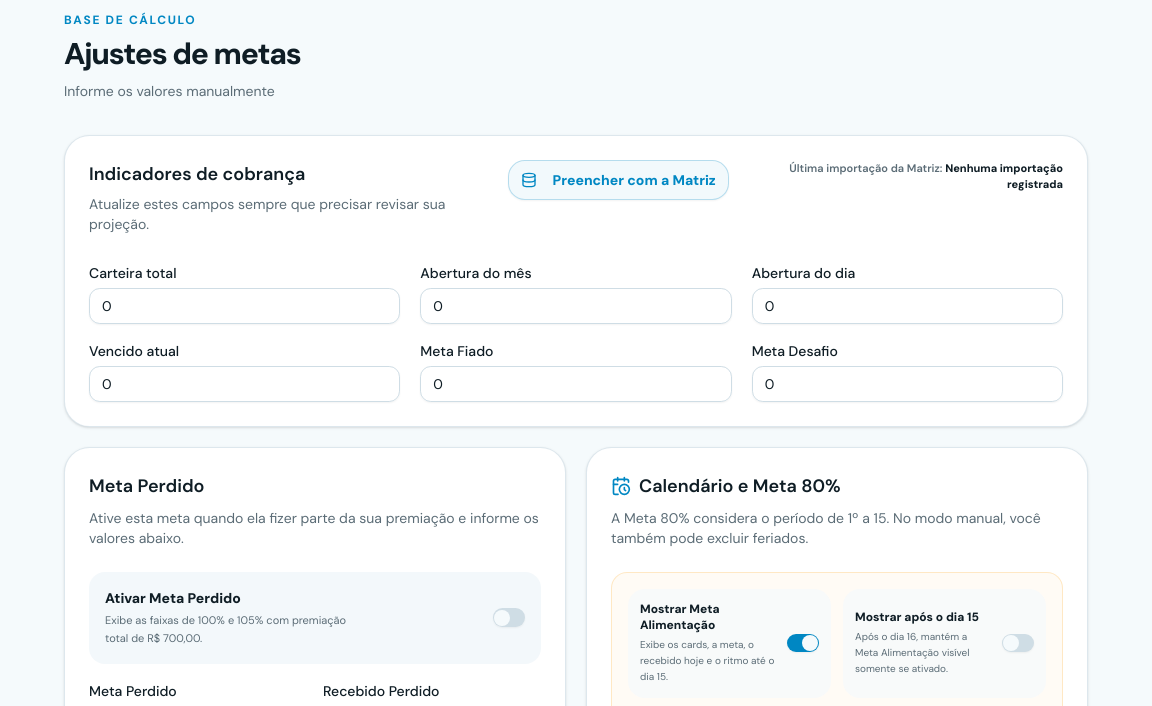
Test: marcador de férias › preenche somente os campos com origem na Matriz para conta PRO e aguarda salvar
Click the button "Preencher com a Matriz".
click(618, 180)  # box [508,160,729,200]
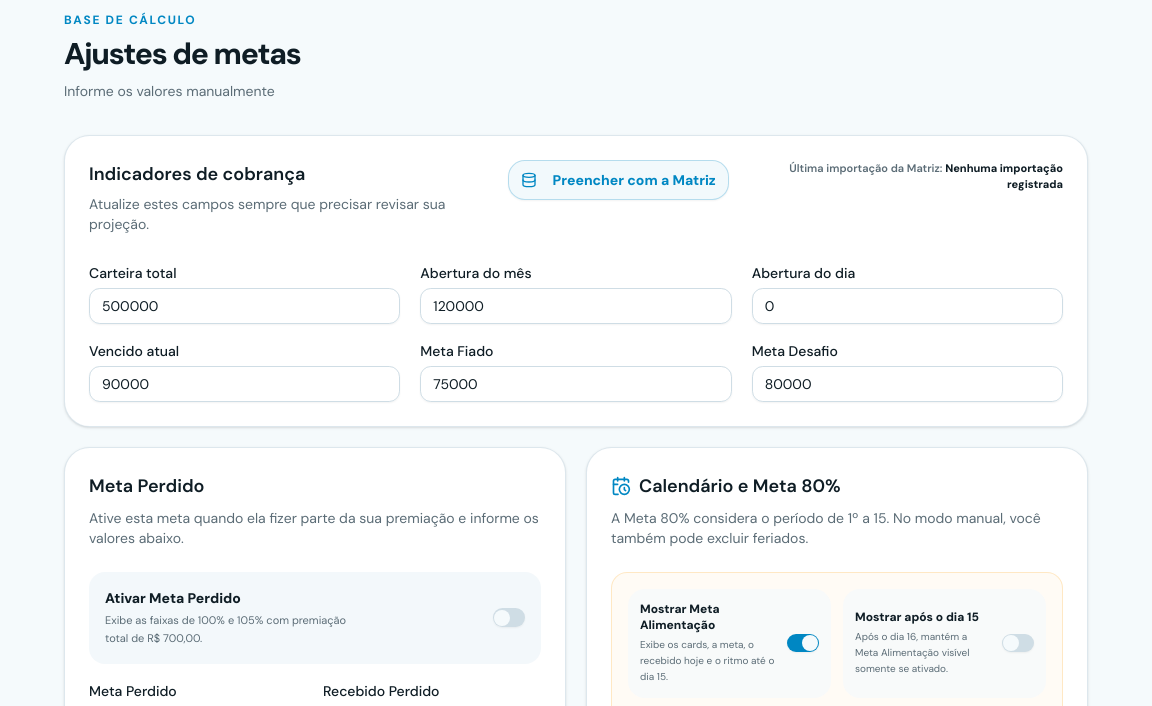
Expected: the number field labelled "Abertura do dia" holds "0", [752,288,1063,324]
Now the number field labelled "Carteira total" holds "500000", box [89,288,400,324]
